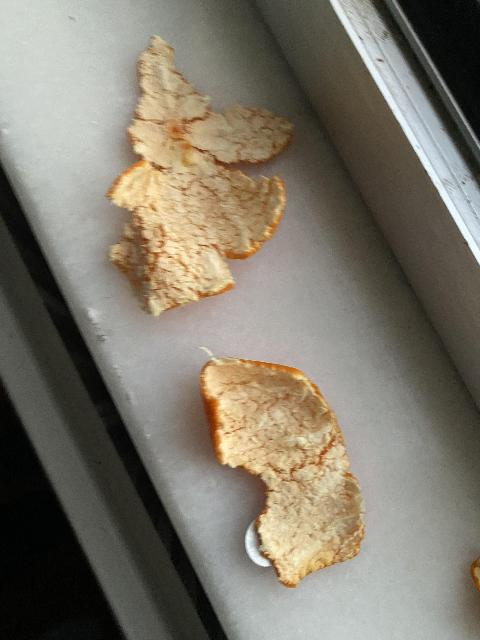Organik: (113, 33, 289, 311), (195, 360, 368, 573)
